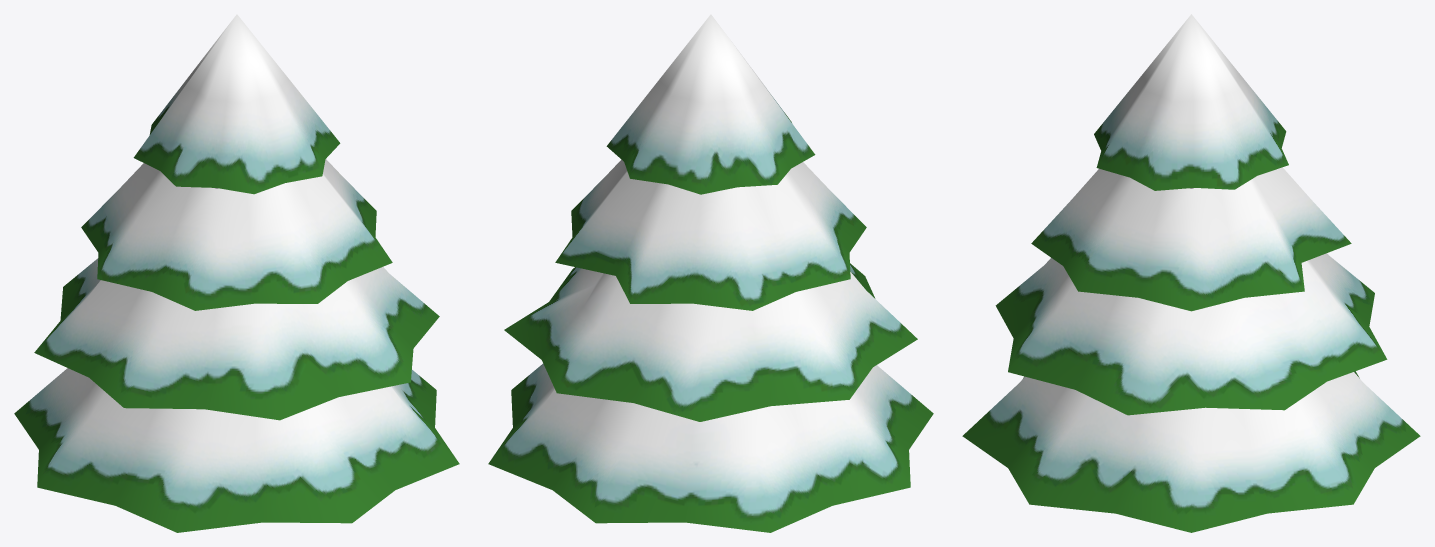
Rendered from Magic_Tree.fbx.
3 views of the same model, side by side, from view 1: azimuth 30°, elevation 25°; view 2: azimuth 150°, elevation 25°; view 3: azimuth 270°, elevation 25° (orthographic).
Visible parts, largest first — view 1: Magic_Tree; view 2: Magic_Tree; view 3: Magic_Tree.
Boxes of the visible parts, <box> form: Magic_Tree: <box>14,14,459,532</box>; Magic_Tree: <box>488,14,933,532</box>; Magic_Tree: <box>962,14,1420,532</box>.
Size of the model in its own units: 3.03 by 3.08 by 3.03.
Materials: 1 (1 with a texture image).
